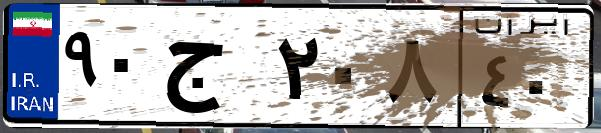0: (330, 28, 385, 110), (525, 38, 570, 115), (110, 28, 158, 98)
2: (270, 28, 330, 110)
4: (475, 38, 525, 113)
8: (385, 28, 445, 110)
9: (57, 26, 110, 100)
ج: (158, 20, 270, 120)
